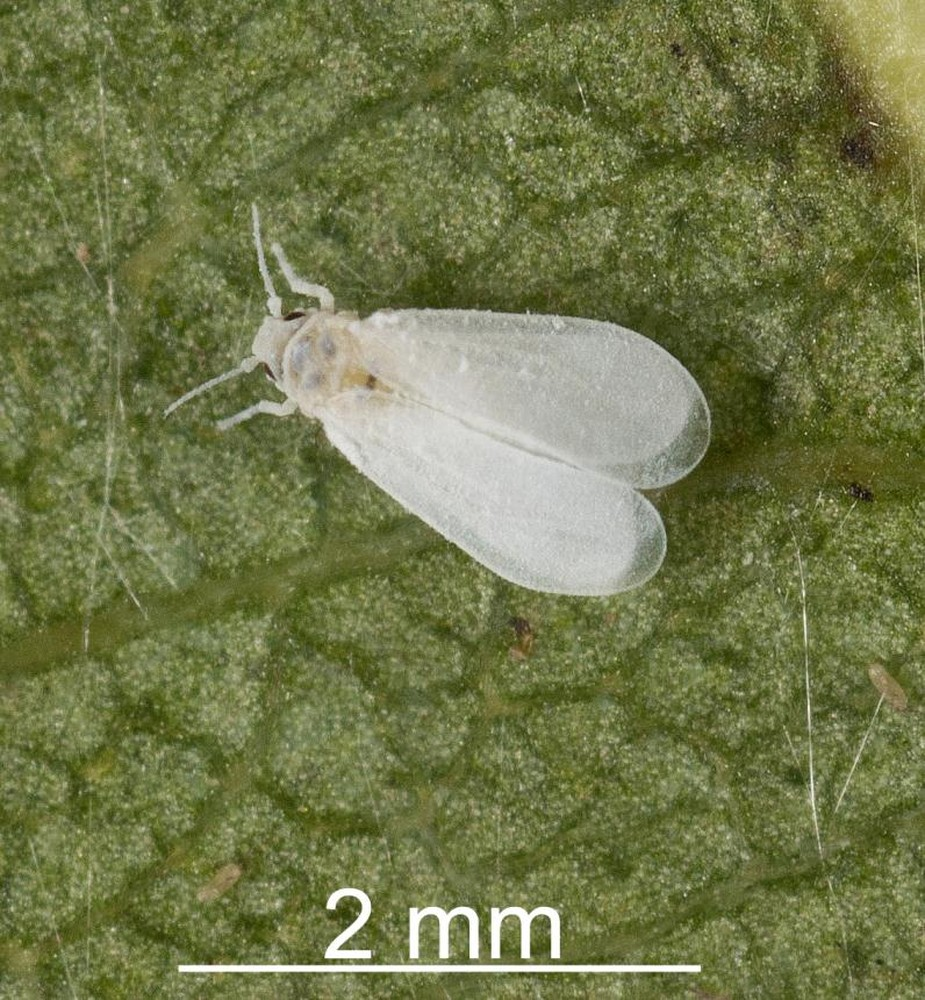Mosca Blanca: (186, 217, 768, 644)
